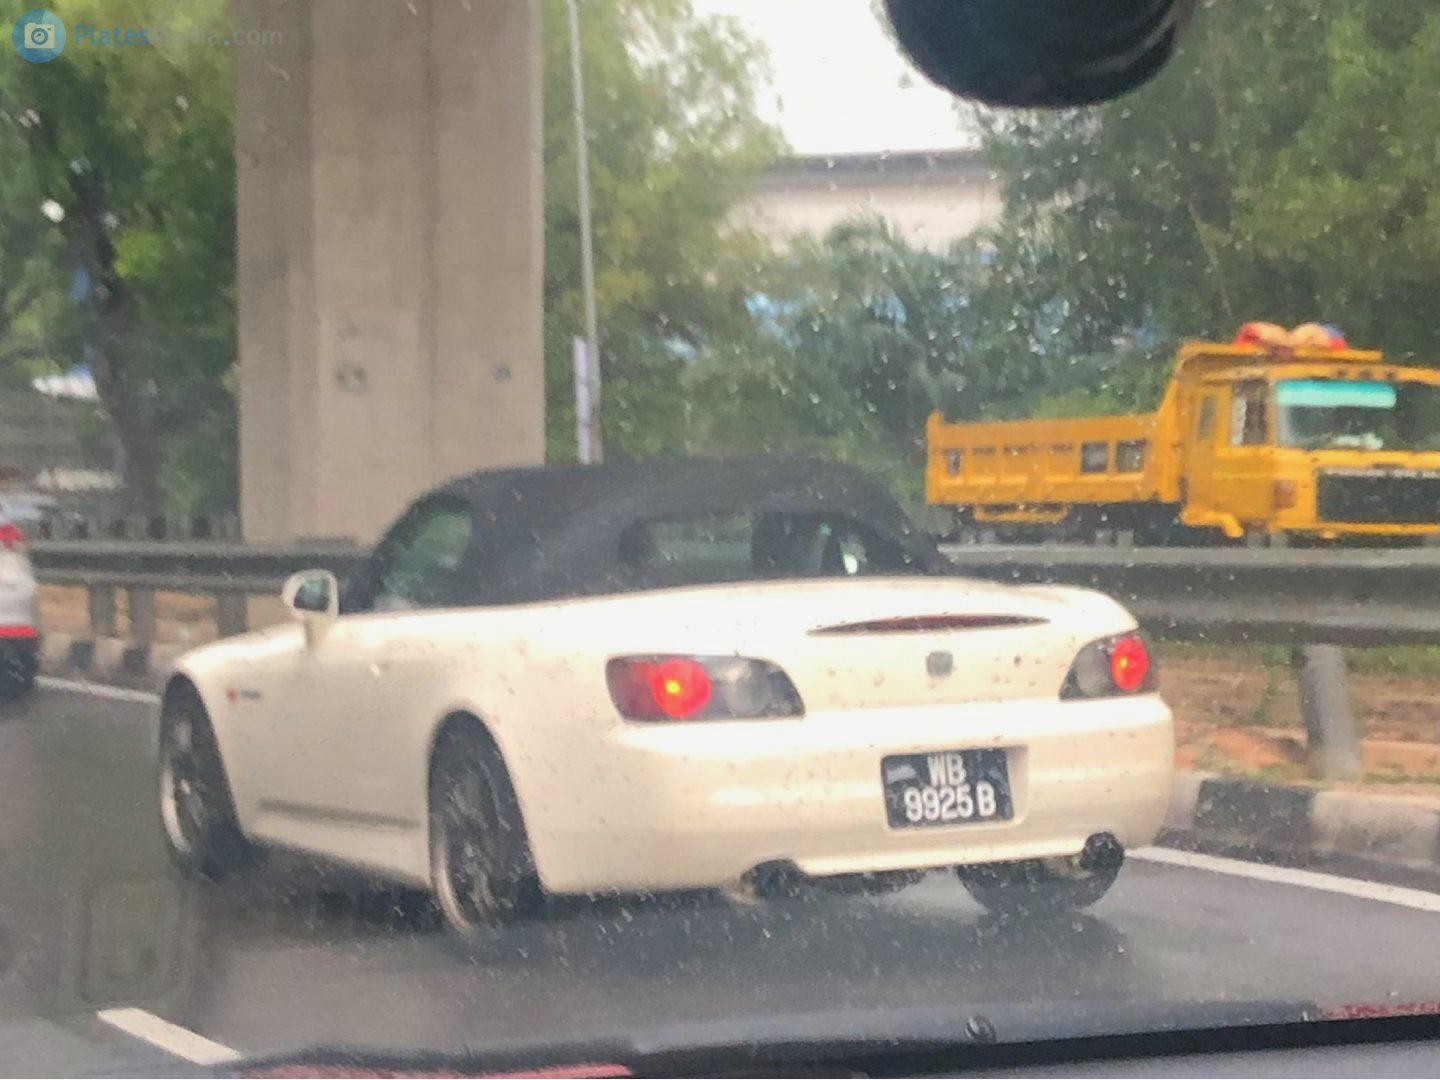License Plate: (886, 748, 1012, 827)
